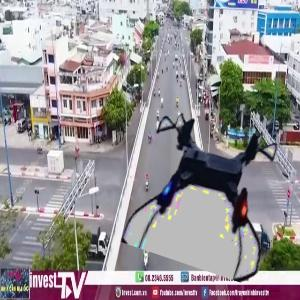drone: (131, 115, 284, 268)
